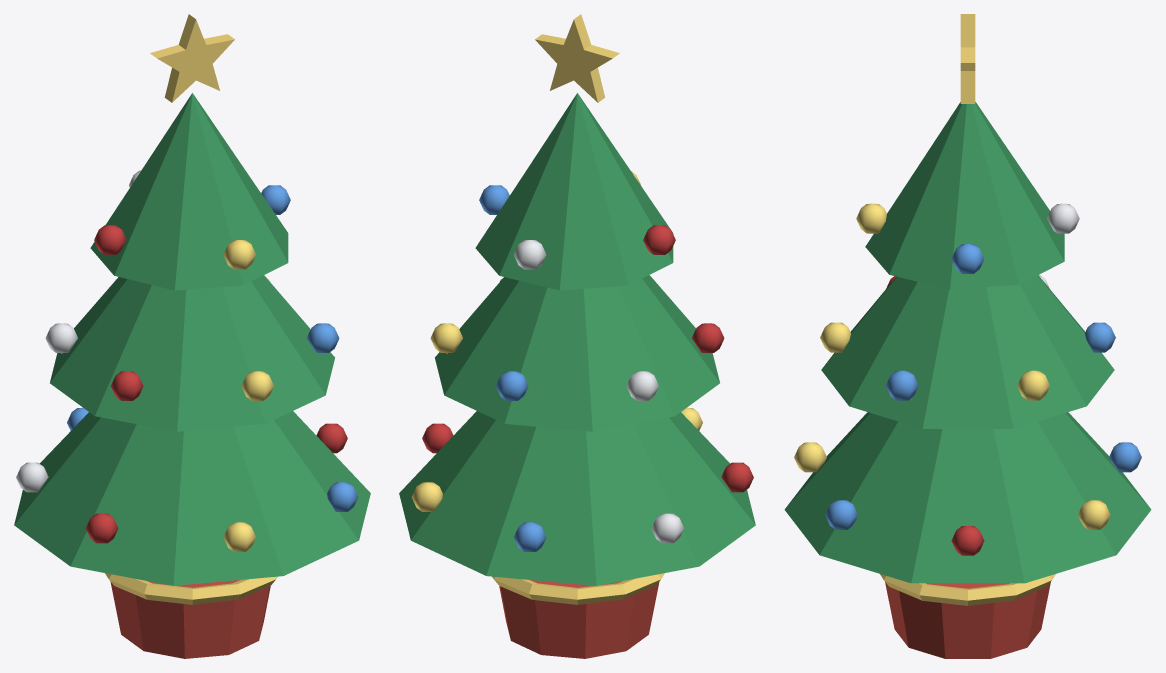
The model's file is christmas-tree.glb.
3 views of the same model, side by side, from view 1: azimuth 30°, elevation 25°; view 2: azimuth 150°, elevation 25°; view 3: azimuth 270°, elevation 25° (orthographic).
Visible parts, largest first — view 1: tree; view 2: tree; view 3: tree.
Boxes of the visible parts, x1=… form: tree: x1=14, y1=14, x2=370, y2=658; tree: x1=399, y1=14, x2=755, y2=658; tree: x1=784, y1=14, x2=1151, y2=658.
Bounding box in the file's own units: 0.9545 × 1.85 × 1.
